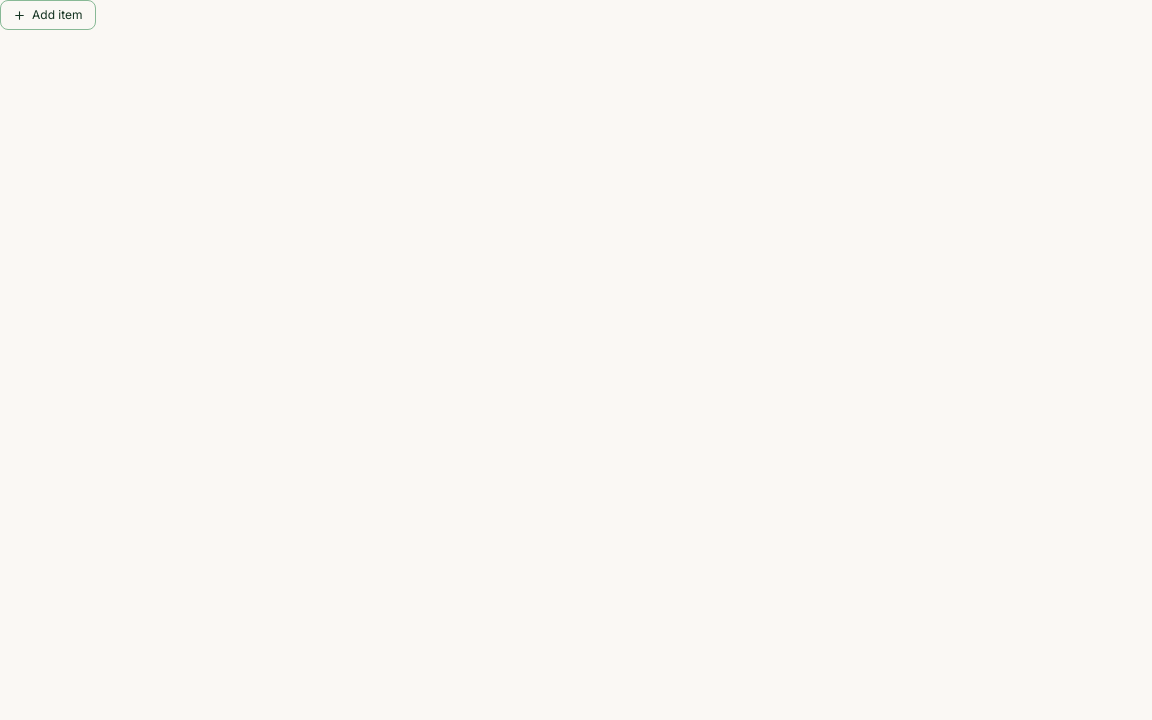
Test case: S3 — the chip config surface › opens, accepts a whole name, and stays open while it is edited
The image size is (1152, 720).
Step 1. Click the button "Add item" → click(48, 15), box [0,0,96,30]
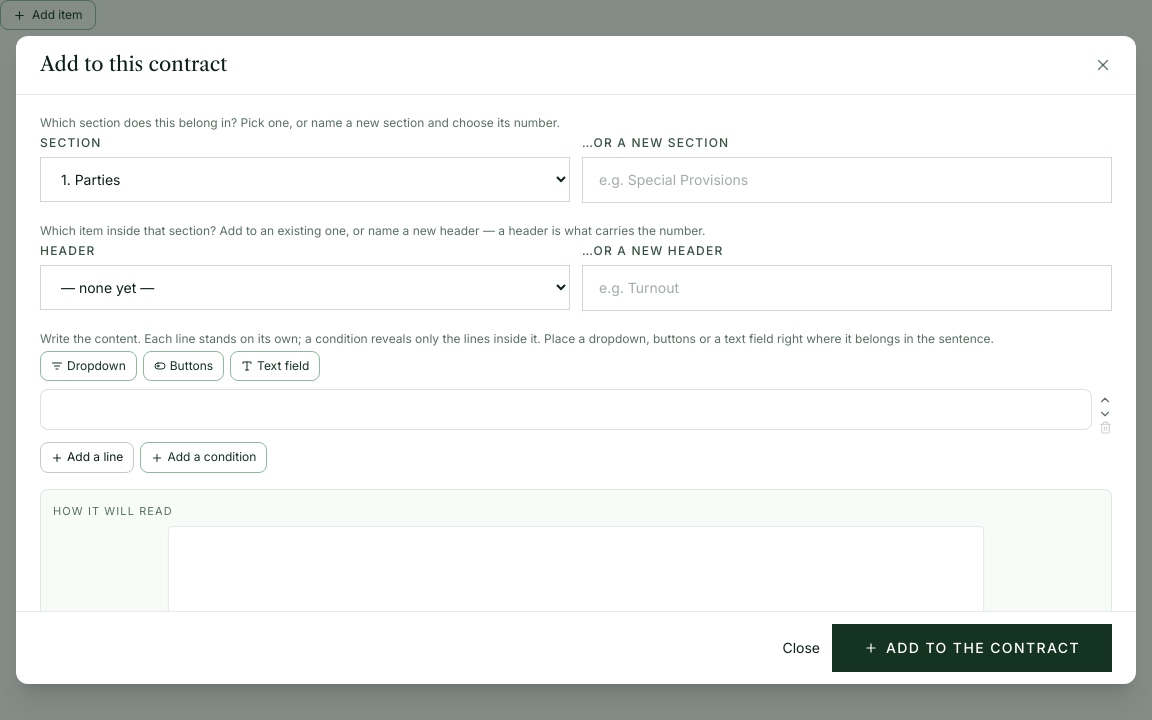
Step 2. Click the button "Dropdown" → click(88, 366), box [40,351,137,381]
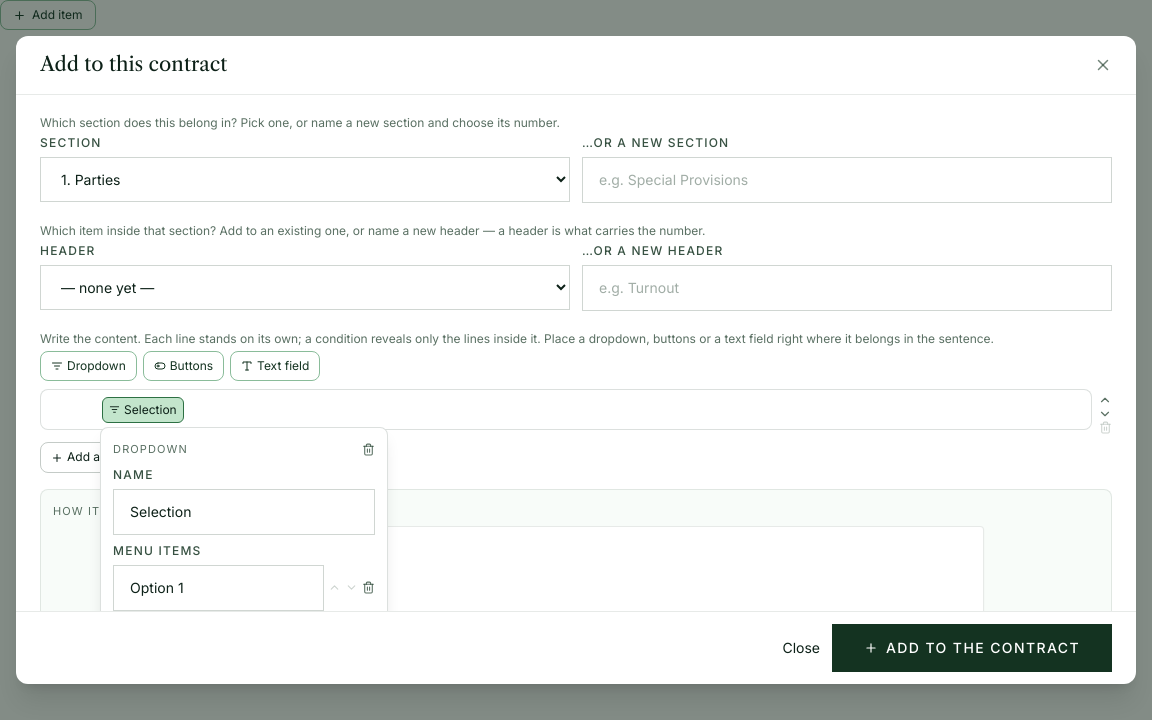
Step 3. Clear the field with placeholder "What this asks for" → (244, 512), box [113,489,375,535]
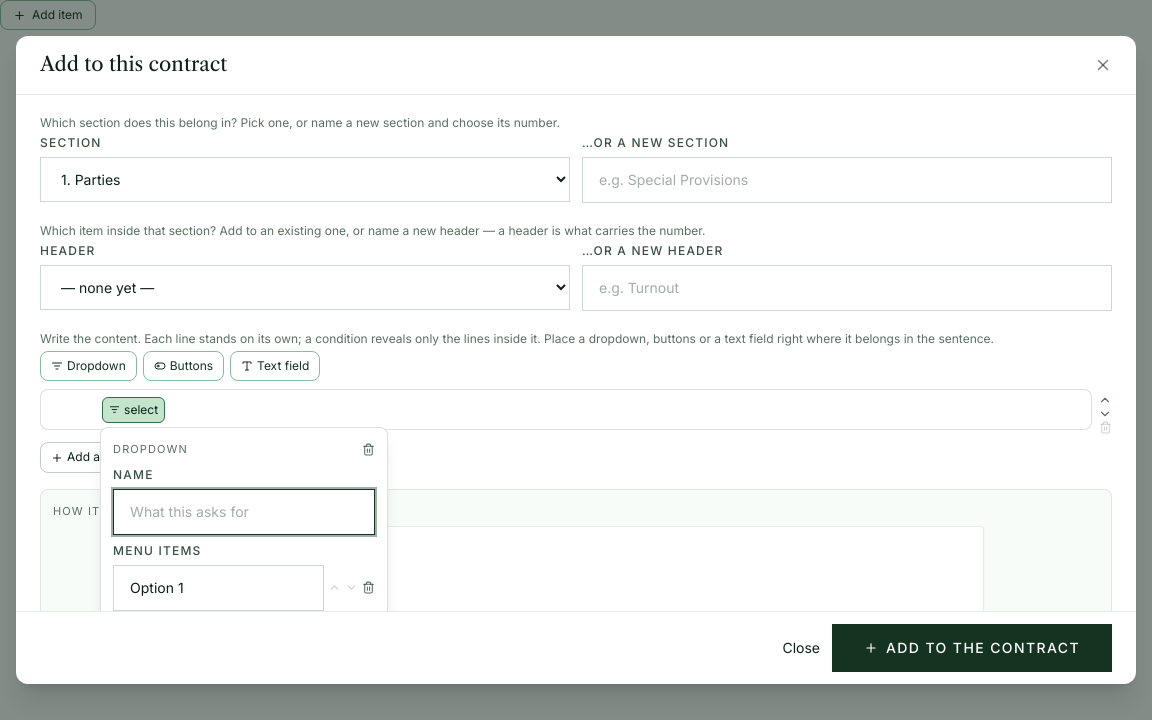
Step 4. Type keys "Notice period"
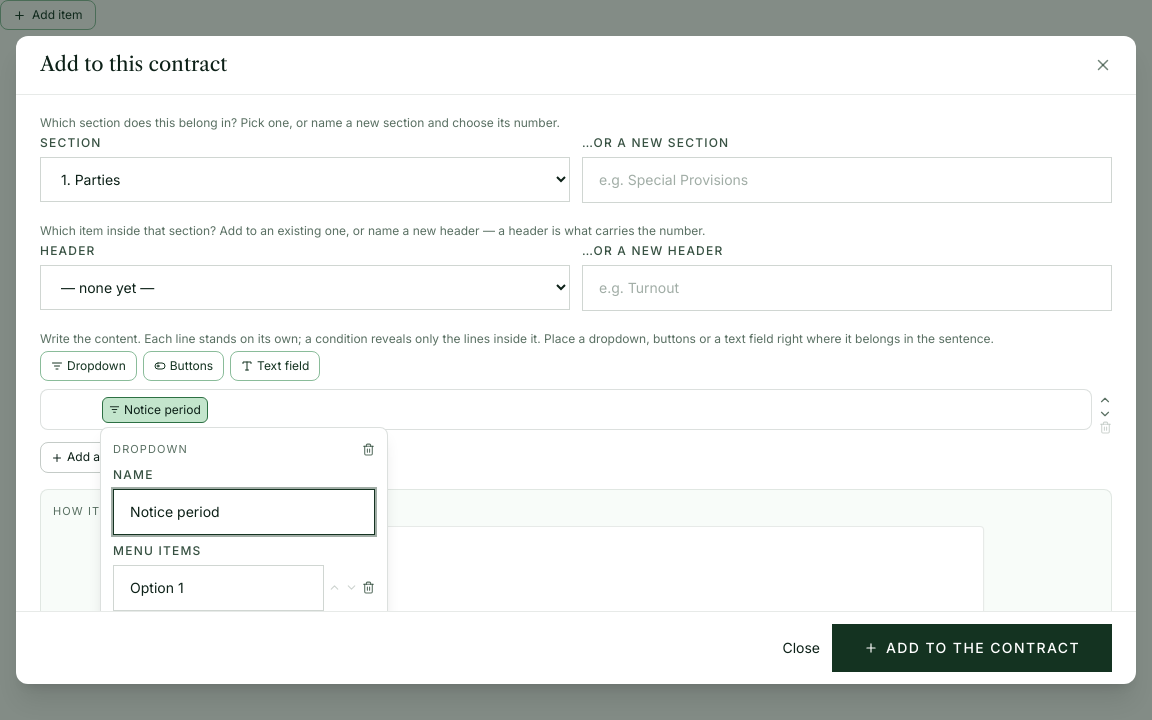
Expected: the field with placeholder "What this asks for" holds "Notice period", [113,489,375,535]
